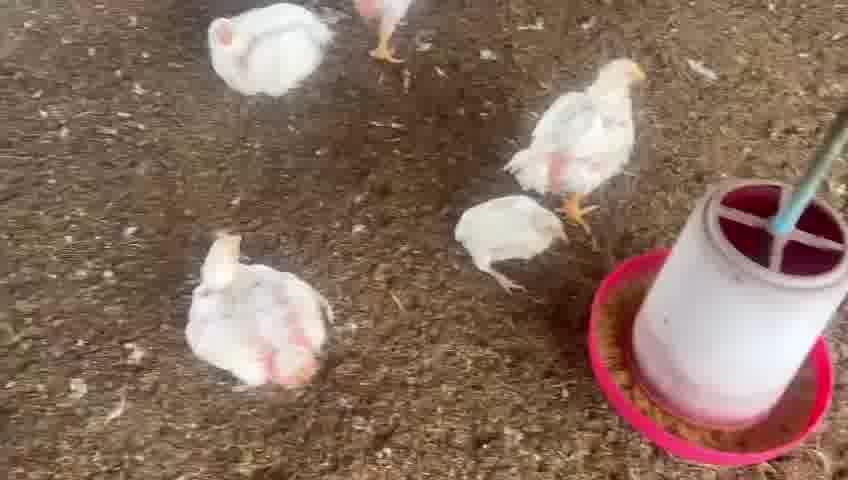AbNormal: (182, 235, 337, 390), (454, 195, 572, 298), (206, 7, 329, 89)
Normal: (525, 58, 659, 224), (348, 2, 421, 70)
